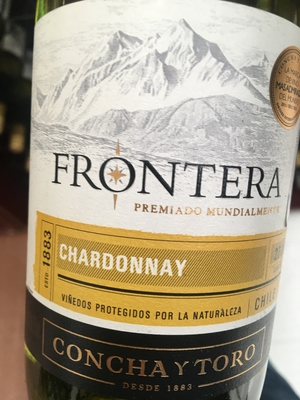frontera chardonnay: (21, 10, 300, 397)
